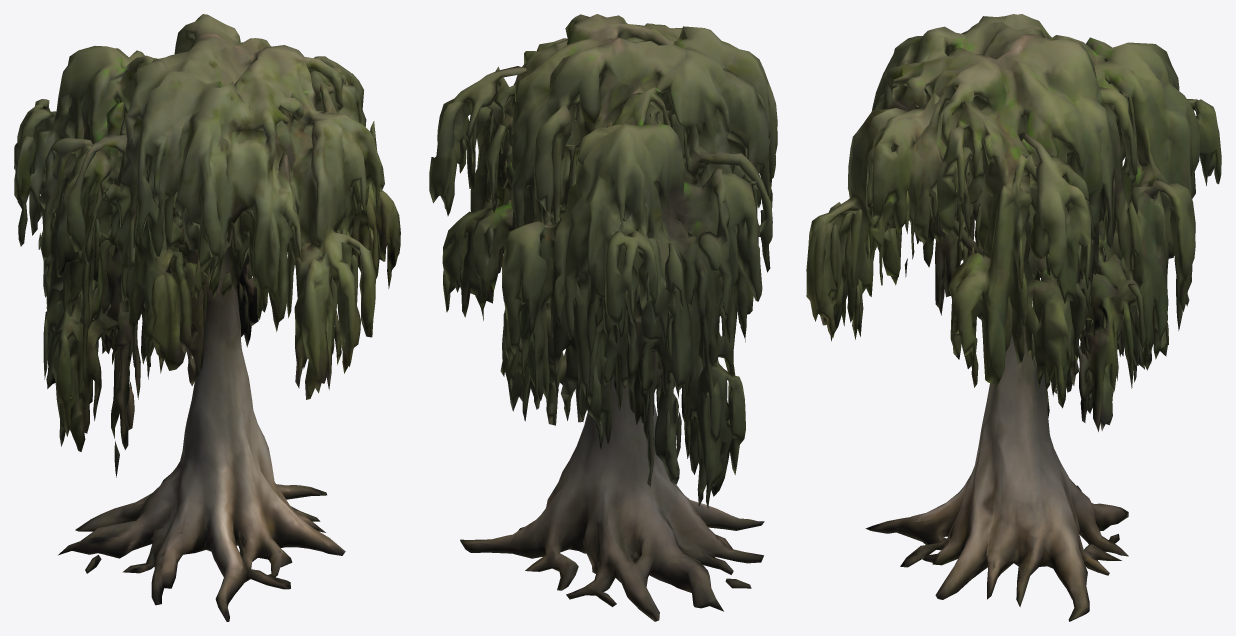
Rendered from AI_WaterTupelo.fbx.
The picture shows the model from 3 angles, left to right: view 1: azimuth 30°, elevation 25°; view 2: azimuth 150°, elevation 25°; view 3: azimuth 270°, elevation 25°; orthographic projection. The views are drawn at different scales.
Visible parts, largest first — view 1: Mesh1.0; view 2: Mesh1.0; view 3: Mesh1.0.
Part boxes in pixels (x1,y1,x2,y2): Mesh1.0: [14, 14, 400, 621]; Mesh1.0: [429, 14, 777, 621]; Mesh1.0: [806, 14, 1221, 621].
Size of the model in its own units: 126 by 200 by 142.
1 material, 1 textured.
